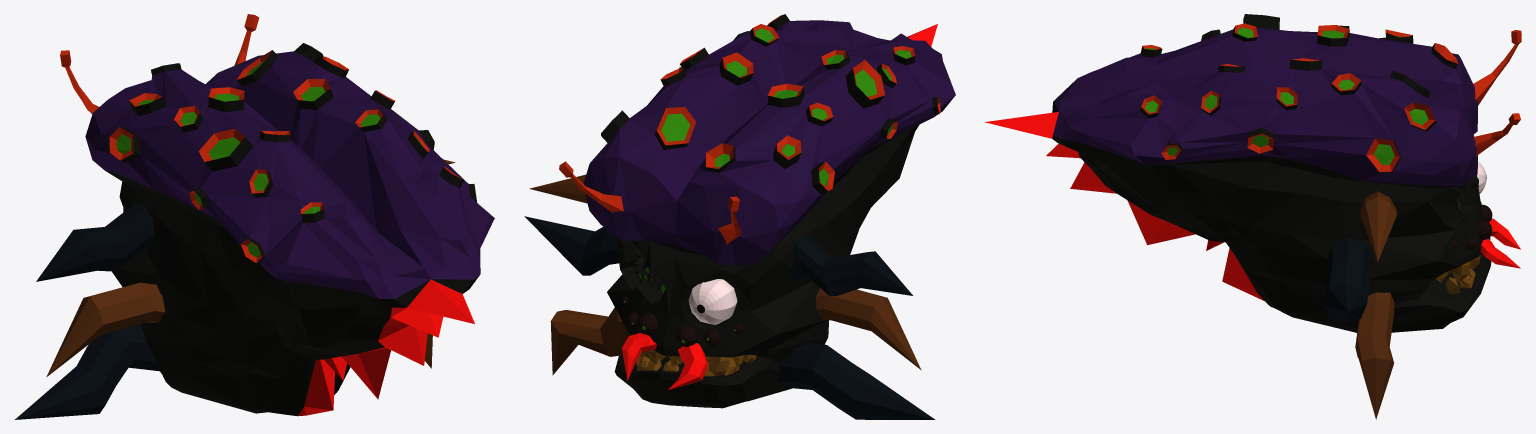
The model's file is Hivemind_0.obj.
3 views of the same model, side by side, from view 1: azimuth 30°, elevation 25°; view 2: azimuth 150°, elevation 25°; view 3: azimuth 270°, elevation 25° (orthographic). The views are drawn at different scales.
Parts seen in each view (by area): view 1: Face_Cube.001; view 2: Face_Cube.001, Large_Eye_Sphere; view 3: Face_Cube.001.
Part boxes in pixels (left/top/right/bottom): Face_Cube.001: left=15, top=14, right=494, bottom=419; Face_Cube.001: left=524, top=14, right=955, bottom=419; Large_Eye_Sphere: left=688, top=279, right=737, bottom=324; Face_Cube.001: left=984, top=14, right=1521, bottom=419.
Bounding box in the file's own units: 4.93 × 3.59 × 5.85.
